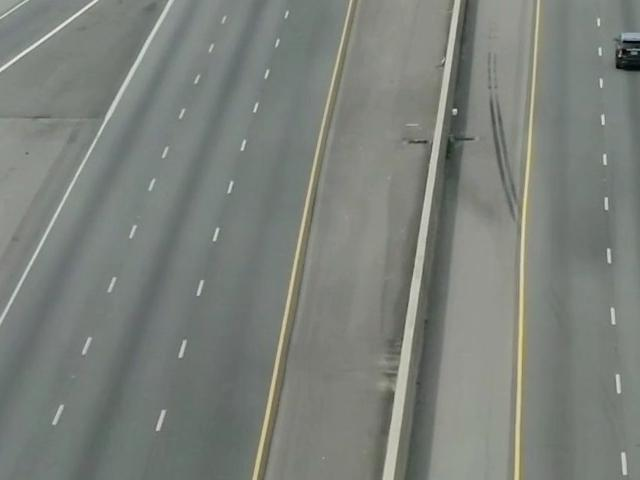car: (612, 24, 640, 78)
